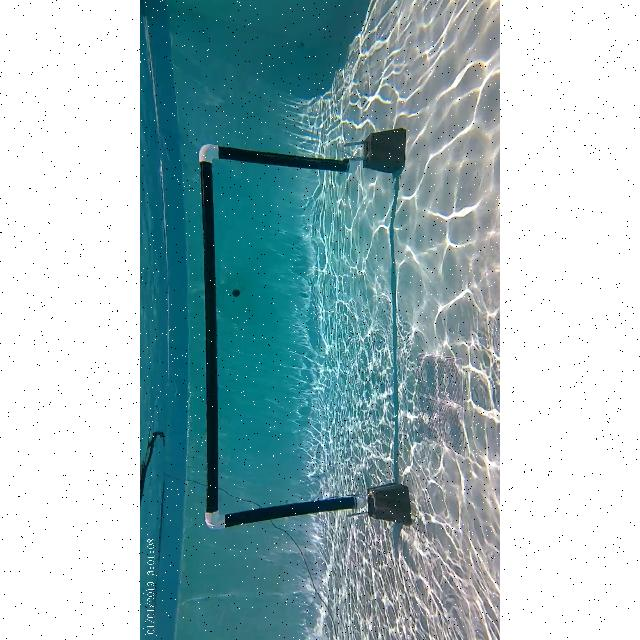prequal gate: (198, 142, 362, 530)
prequal gate leg l: (198, 493, 378, 527)
prequal gate leg r: (194, 135, 366, 181)
